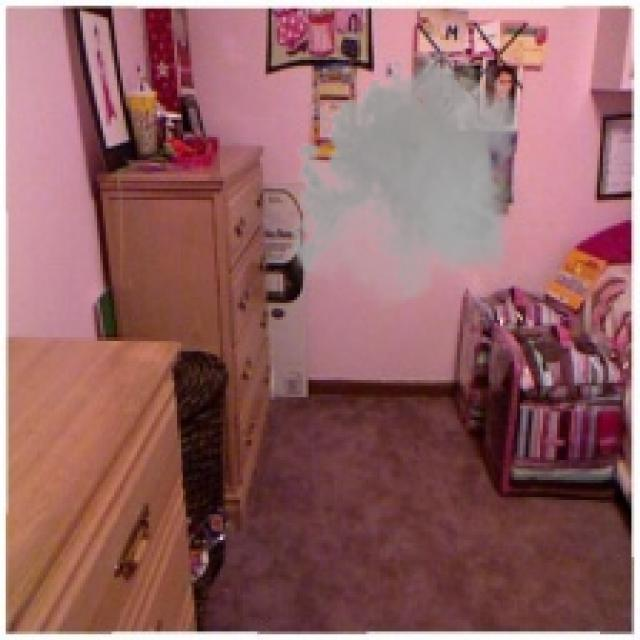Smoke: (282, 42, 528, 318)
